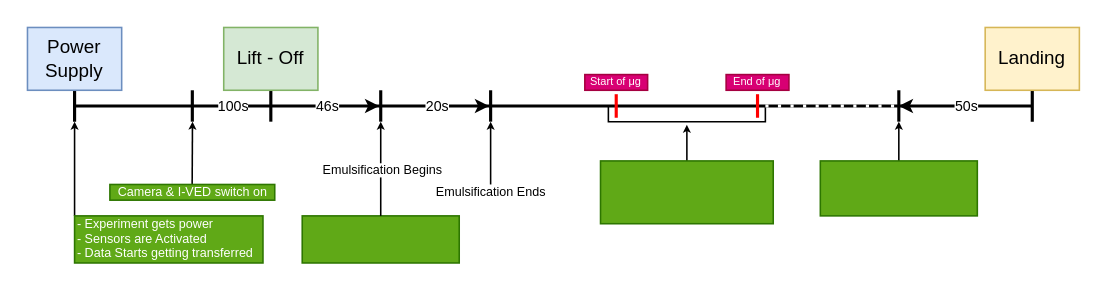
Some shapes in this 1107 by 290 pixel diagram are drawn without their labels. Each missing label, with the box of its shape:
Experiment gets switched off and all components stop getting power: (819, 159, 977, 216)
Experiment is being examined and all of the data is stored in the SD card: (599, 159, 773, 224)
Motor gets power and starts moving in full speed: (301, 214, 459, 263)
